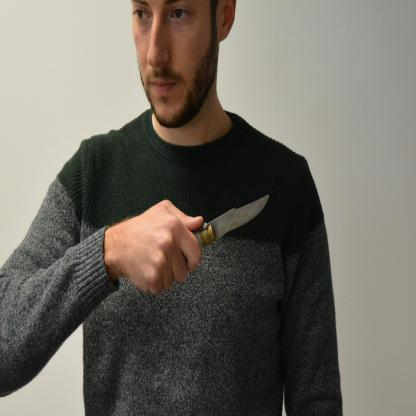knife: (175, 183, 275, 269)
